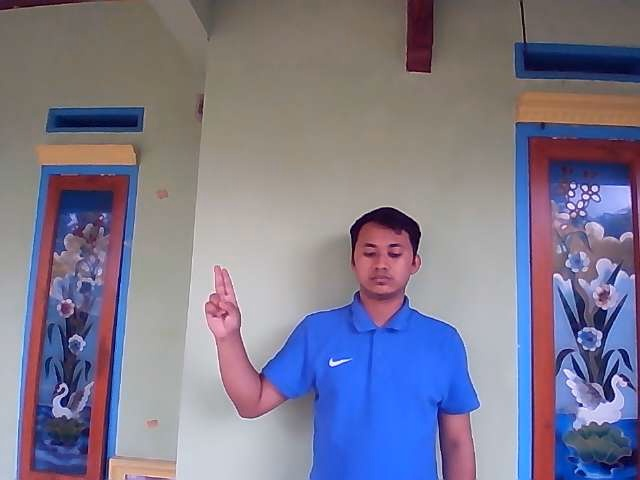U: (204, 264, 241, 336)
